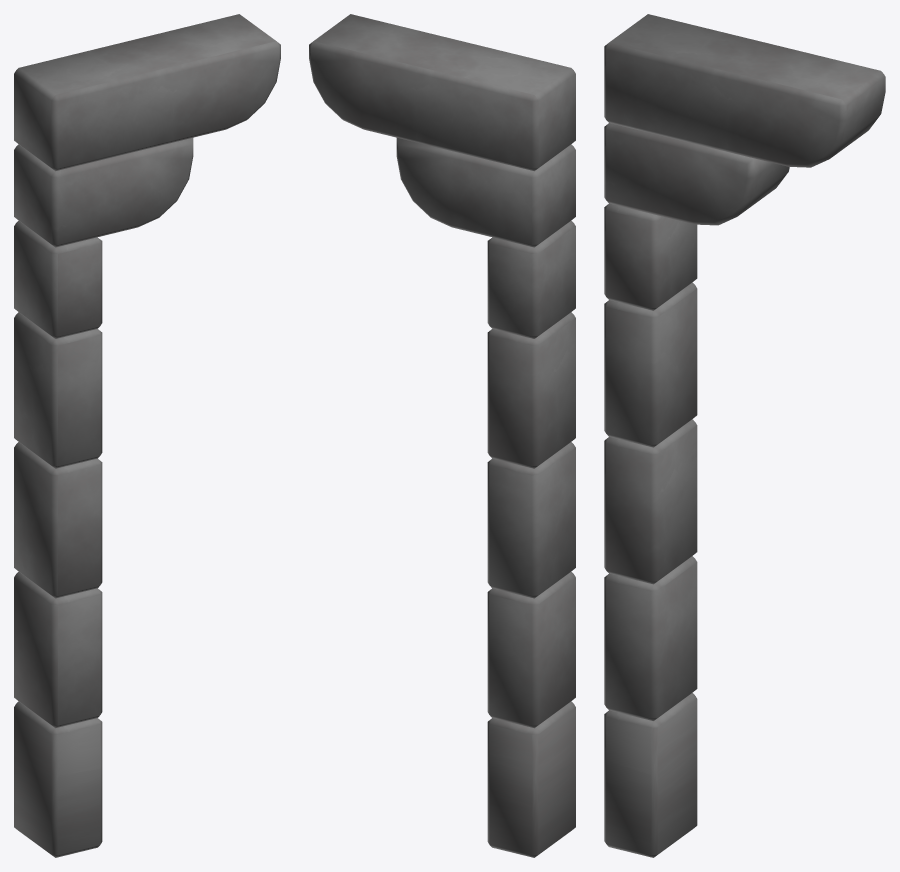
The model's file is Tower_Balken_Gewölbt.fbx.
3 views of the same model, side by side, from view 1: azimuth 30°, elevation 25°; view 2: azimuth 150°, elevation 25°; view 3: azimuth 330°, elevation 25° (orthographic). The views are drawn at different scales.
Parts seen in each view (by area): view 1: Tower_Balken_Gewölbt; view 2: Tower_Balken_Gewölbt; view 3: Tower_Balken_Gewölbt.
Part boxes in pixels (box(x1,y1,x2,y2)): Tower_Balken_Gewölbt: box(14, 14, 280, 857); Tower_Balken_Gewölbt: box(309, 14, 575, 857); Tower_Balken_Gewölbt: box(604, 14, 885, 857).
Bounding box in the file's own units: 1.58 × 5 × 0.5.
